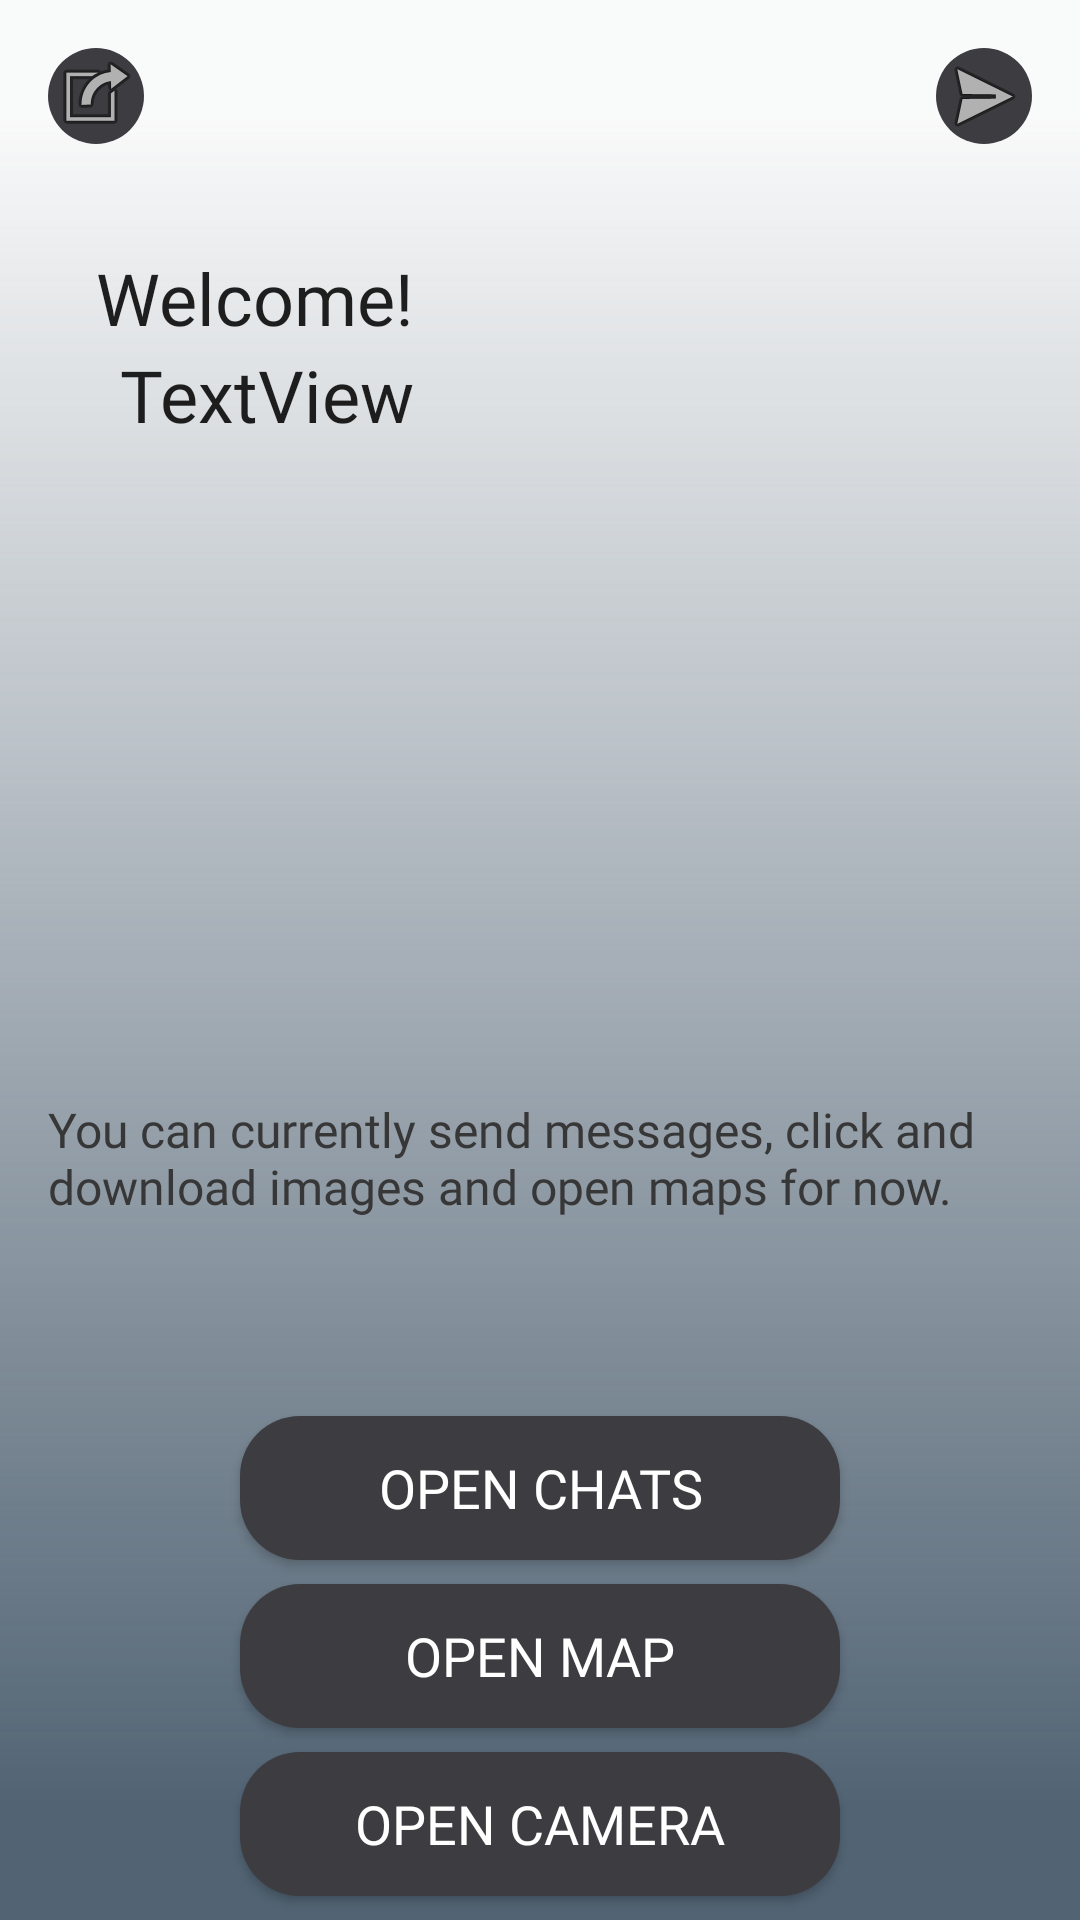

Icon bounding boxes for this 1080w x 1920h phone screenshot, format region(x1, y1, x2, y2):
send: region(936, 48, 1032, 144)
set as: region(48, 48, 144, 144)
